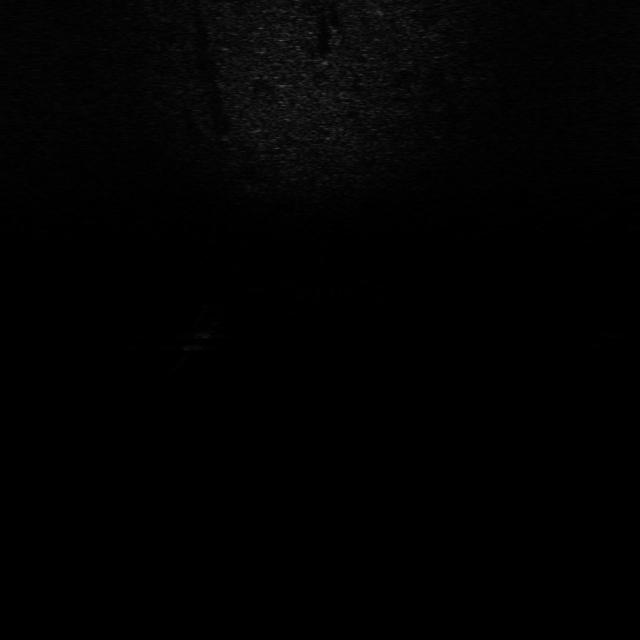human body: (167, 296, 229, 372)
